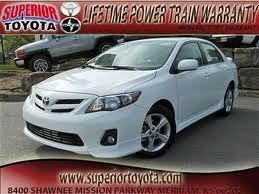Car: (19, 35, 243, 165), (8, 20, 132, 77)
